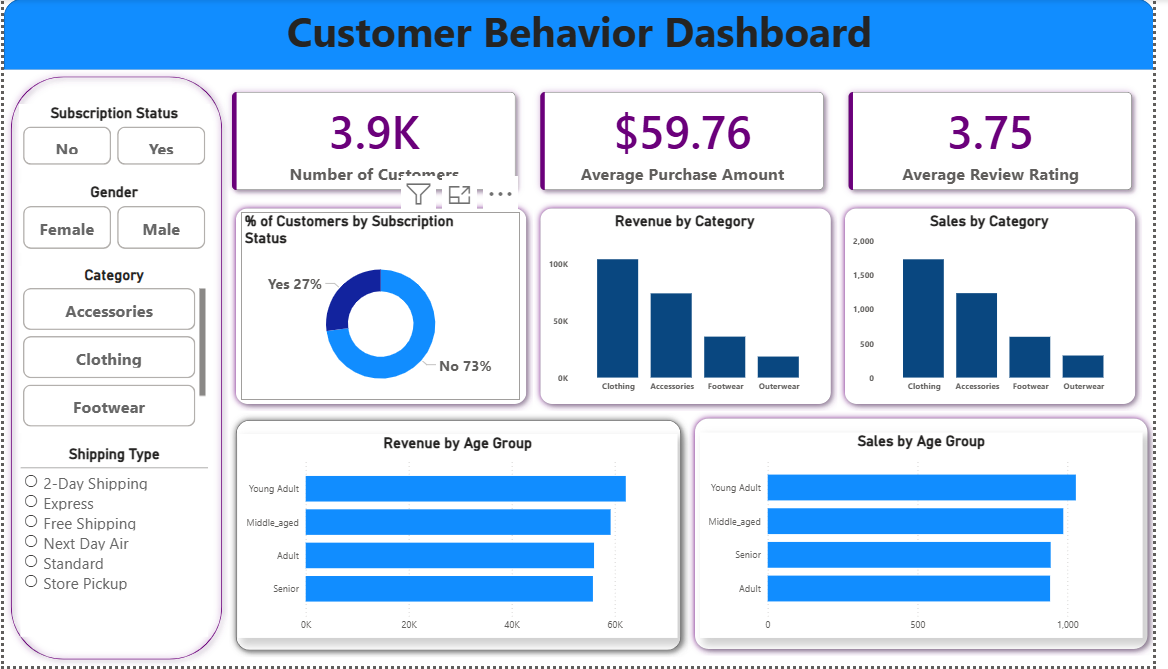

The page's visual inventory and layout, read from the dashboard file:
{"tool":"powerbi","page":{"name":"Page 1","canvas":[1500,870],"ordinal":0},"visuals":[{"type":"cardVisual","fields":{"Data":["project customer_behavior.Number of Customers","project customer_behavior.Average Purchase Amount","project customer_behavior.Average Review Rating"]},"box":[267.6,92.3,1233,186.4],"z":0},{"type":"shape","box":[0,0,1500.6,92.3],"z":1000},{"type":"textbox","box":[0,0,1501.1,92.2],"z":2000},{"type":"shape","box":[293.5,263.9,396.8,273.2],"z":3000},{"type":"donutChart","title":"% of Customers by Subscription Status","fields":{"Category":["project customer_behavior.subscription_status"],"Y":["CountNonNull(project customer_behavior.customer_id)"]},"box":[310.1,278.7,363.6,243.6],"z":4000},{"type":"shape","box":[690.3,263.9,396.8,273.2],"z":5000},{"type":"shape","box":[1087.2,263.9,396.8,273.2],"z":6000},{"type":"clusteredColumnChart","title":"Revenue by Category","fields":{"Category":["project customer_behavior.category"],"Y":["Sum(project customer_behavior.purchase_amount)"]},"box":[705.1,278.7,367.3,243.6],"z":7000},{"type":"clusteredColumnChart","title":"Sales by Category","fields":{"Category":["project customer_behavior.category"],"Y":["CountNonNull(project customer_behavior.customer_id)"]},"box":[1101.9,278.7,367.3,243.6],"z":8000},{"type":"shape","box":[0,92,293.5,778.7],"z":9000},{"type":"advancedSlicerVisual","title":"Subscription Status","fields":{"Values":["project customer_behavior.subscription_status"]},"box":[19.6,137,248.5,84.1],"z":10000},{"type":"advancedSlicerVisual","title":"Gender","fields":{"Values":["project customer_behavior.gender"]},"box":[19.6,240.7,248.5,90],"z":11000},{"type":"advancedSlicerVisual","title":"Category","fields":{"Values":["project customer_behavior.category"]},"box":[19.6,348.3,248.5,217.2],"z":12000},{"type":"listSlicer","title":"Shipping Type","fields":{"Values":["project customer_behavior.shipping_type"]},"box":[21.5,579.1,244.6,252.4],"z":13000},{"type":"shape","box":[892.2,538.1,608.5,318.9],"z":15000},{"type":"clusteredBarChart","title":"Sales by Age Group","fields":{"Category":["project customer_behavior.age_group"],"Y":["CountNonNull(project customer_behavior.customer_id)"]},"box":[907.8,565.4,577.2,268],"z":16000},{"type":"shape","box":[293.5,540,598.7,318.9],"z":17000},{"type":"clusteredBarChart","title":"Revenue by Age Group","fields":{"Category":["project customer_behavior.age_group"],"Y":["Sum(project customer_behavior.purchase_amount)"]},"box":[305.2,567.4,573.3,266.1],"z":17500}]}

Visuals, with their boxes in screenshot pixels (x1, y1, x2, y2), scaled from the page's 1500x870 canvas onto the 1168x669 screenshot:
cardVisual - project customer_behavior.Number of Customers x project customer_behavior.Average Purchase Amount: bbox=[208, 71, 1167, 214]
shape: bbox=[0, 0, 1167, 71]
textbox: bbox=[0, 0, 1167, 71]
shape: bbox=[229, 203, 538, 413]
"% of Customers by Subscription Status" donutChart: bbox=[241, 214, 525, 402]
shape: bbox=[538, 203, 846, 413]
shape: bbox=[847, 203, 1156, 413]
"Revenue by Category" clusteredColumnChart: bbox=[549, 214, 835, 402]
"Sales by Category" clusteredColumnChart: bbox=[858, 214, 1144, 402]
shape: bbox=[0, 71, 229, 668]
"Subscription Status" advancedSlicerVisual: bbox=[15, 105, 209, 170]
"Gender" advancedSlicerVisual: bbox=[15, 185, 209, 254]
"Category" advancedSlicerVisual: bbox=[15, 268, 209, 435]
"Shipping Type" listSlicer: bbox=[17, 445, 207, 639]
shape: bbox=[695, 414, 1167, 659]
"Sales by Age Group" clusteredBarChart: bbox=[707, 435, 1156, 641]
shape: bbox=[229, 415, 695, 660]
"Revenue by Age Group" clusteredBarChart: bbox=[238, 436, 684, 641]
